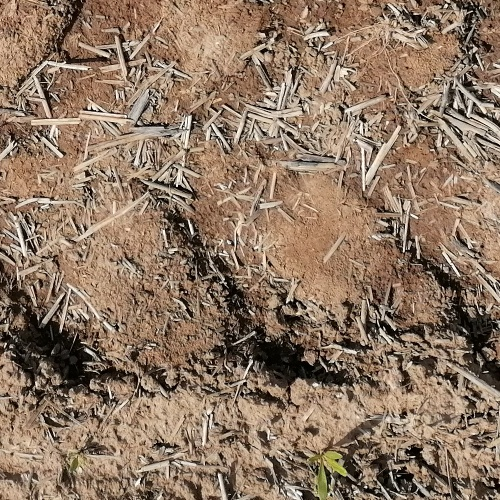beet: (308, 452, 353, 500)
